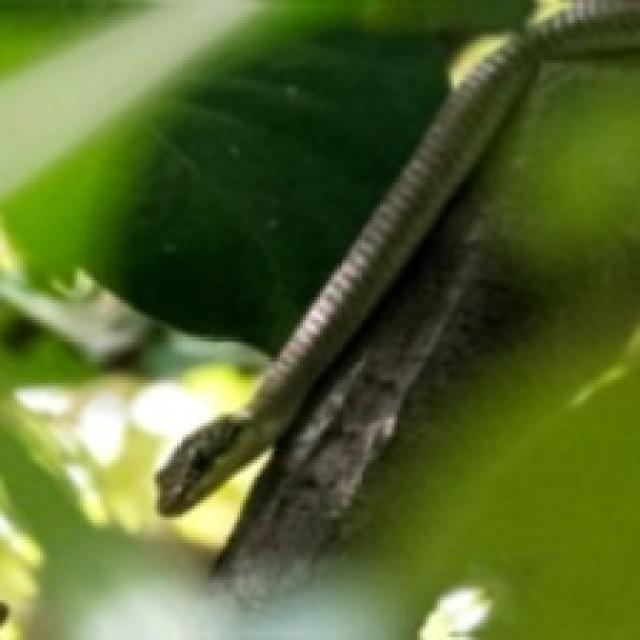paradise tree snake: (157, 9, 637, 514)
